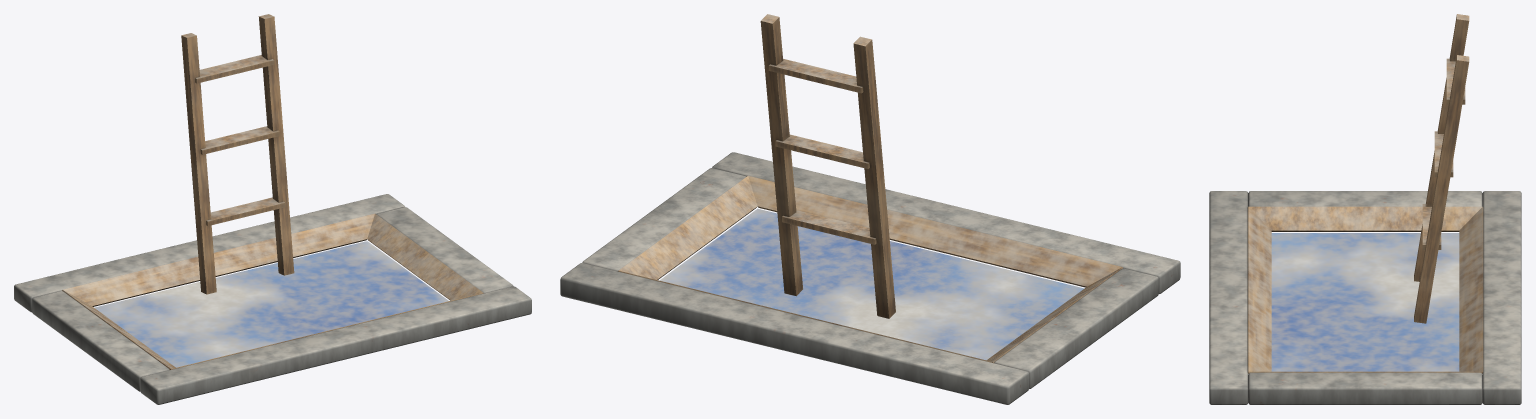
The model's file is sky_hatch.fbx.
The picture shows the model from 3 angles, left to right: view 1: azimuth 30°, elevation 25°; view 2: azimuth 150°, elevation 25°; view 3: azimuth 270°, elevation 25°; orthographic projection. The views are drawn at different scales.
Parts seen in each view (by area): view 1: Body, Glow; view 2: Body, Glow; view 3: Body, Glow.
Boxes of the visible parts, x1,y1,x2,y2 form: Body: (14,14,531,404); Glow: (94,241,448,367); Body: (560,14,1180,404); Glow: (660,208,1084,360); Body: (1209,14,1521,404); Glow: (1271,233,1459,371).
Size of the model in its own units: 6 by 3.81 by 4.
1 material, 1 textured.
